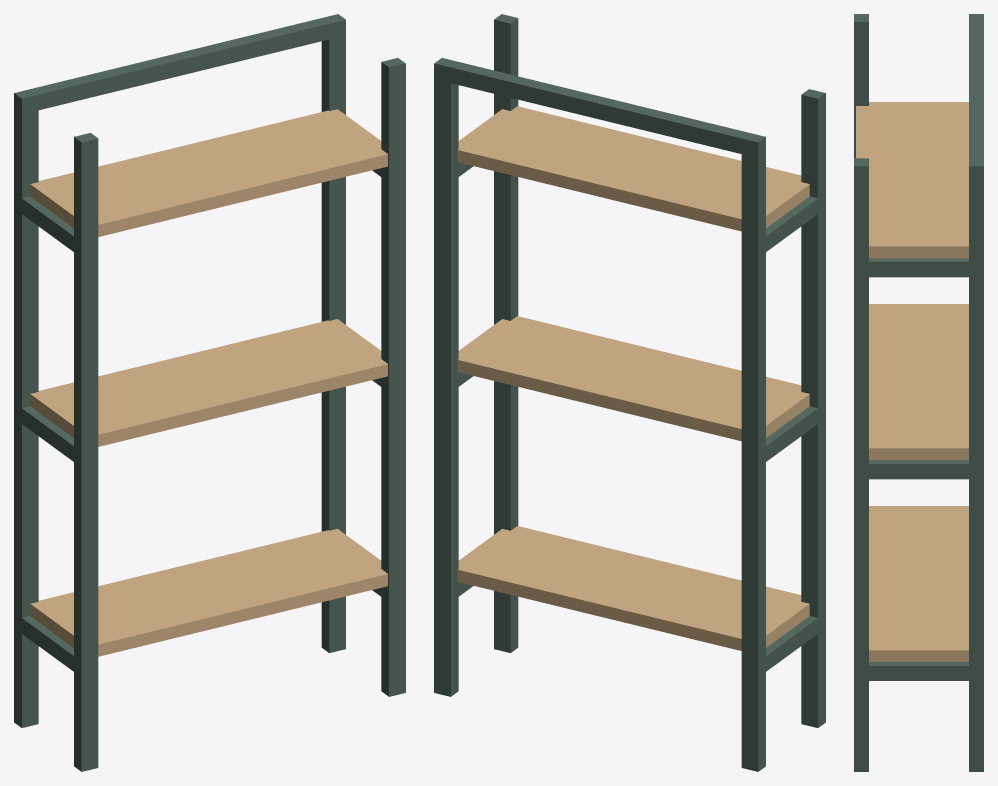
The picture shows the model from 3 angles, left to right: view 1: azimuth 30°, elevation 25°; view 2: azimuth 150°, elevation 25°; view 3: azimuth 270°, elevation 25°; orthographic projection. The views are drawn at different scales.
Visible parts, largest first — view 1: wall-shelf-board-top, wall-shelf-board-lower, wall-shelf-board-middle, frame-post-left-front, frame-post-right-front, frame-post-left-rear, frame-post-right-rear, frame-rear-top-rail, frame-side-rail-top-left, frame-side-rail-middle-left, frame-side-rail-lower-left; view 2: wall-shelf-board-lower, wall-shelf-board-middle, wall-shelf-board-top, frame-post-left-rear, frame-post-right-rear, frame-post-left-front, frame-post-right-front, frame-rear-top-rail, frame-side-rail-lower-left, frame-side-rail-top-left, frame-side-rail-middle-left; view 3: wall-shelf-board-top, wall-shelf-board-lower, wall-shelf-board-middle, frame-post-right-front, frame-post-right-rear, frame-rear-top-rail, frame-side-rail-middle-right, frame-side-rail-top-right, frame-side-rail-lower-right, frame-post-left-front.
Boxes of the visible parts, bbox=[...] form: wall-shelf-board-top: bbox=[30, 109, 387, 236]; wall-shelf-board-lower: bbox=[30, 529, 387, 656]; wall-shelf-board-middle: bbox=[30, 319, 387, 446]; frame-post-left-front: bbox=[74, 133, 98, 771]; frame-post-right-front: bbox=[381, 58, 405, 696]; frame-post-left-rear: bbox=[14, 89, 38, 727]; frame-post-right-rear: bbox=[321, 14, 345, 652]; frame-rear-top-rail: bbox=[23, 16, 337, 111]; frame-side-rail-top-left: bbox=[21, 196, 80, 256]; frame-side-rail-middle-left: bbox=[21, 406, 80, 465]; frame-side-rail-lower-left: bbox=[21, 616, 75, 671]; wall-shelf-board-lower: bbox=[457, 526, 809, 650]; wall-shelf-board-middle: bbox=[457, 316, 809, 441]; wall-shelf-board-top: bbox=[457, 106, 809, 231]; frame-post-left-rear: bbox=[741, 133, 765, 771]; frame-post-right-rear: bbox=[434, 58, 458, 696]; frame-post-left-front: bbox=[801, 89, 825, 727]; frame-post-right-front: bbox=[494, 14, 518, 652]; frame-rear-top-rail: bbox=[442, 60, 756, 154]; frame-side-rail-lower-left: bbox=[765, 616, 817, 672]; frame-side-rail-top-left: bbox=[765, 195, 824, 251]; frame-side-rail-middle-left: bbox=[765, 406, 824, 462]; wall-shelf-board-top: bbox=[856, 102, 968, 258]; wall-shelf-board-lower: bbox=[869, 506, 968, 661]; wall-shelf-board-middle: bbox=[869, 304, 968, 459]; frame-post-right-front: bbox=[854, 158, 868, 771]; frame-post-right-rear: bbox=[969, 160, 983, 771]; frame-rear-top-rail: bbox=[969, 18, 983, 162]; frame-side-rail-middle-right: bbox=[861, 460, 969, 479]; frame-side-rail-top-right: bbox=[856, 258, 970, 277]; frame-side-rail-lower-right: bbox=[856, 662, 970, 680]; frame-post-left-front: bbox=[854, 14, 868, 158].
Size of the model in its own units: 0.97 by 1.8 by 0.35.
